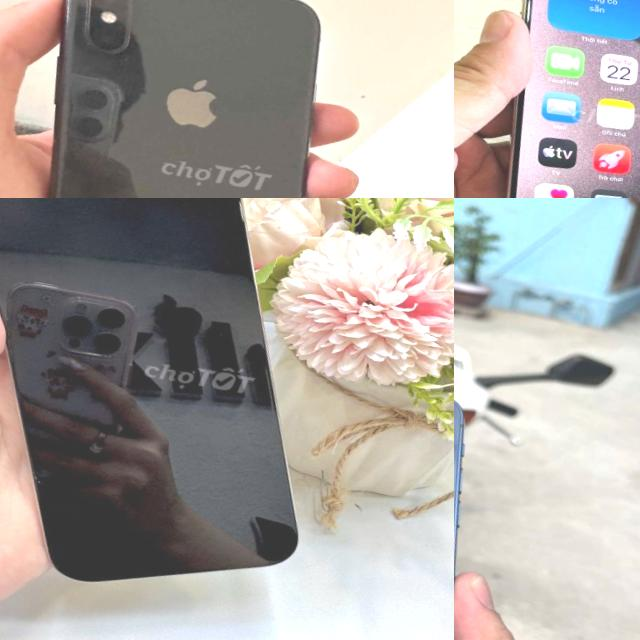gen_12_13: (454, 357, 540, 640)
gen_15: (454, 0, 640, 198)
gen_16: (0, 198, 296, 581)
gen_x_xs: (0, 0, 369, 198)
scratch: (55, 0, 83, 27)
